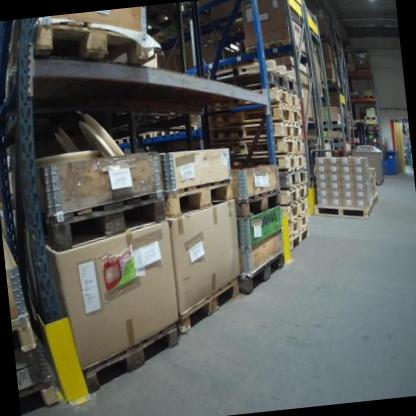pallet: (0, 6, 155, 83), (39, 186, 172, 255), (79, 316, 187, 392), (175, 268, 247, 335), (164, 176, 239, 223), (236, 249, 290, 297), (209, 105, 302, 130), (16, 368, 63, 416), (210, 123, 306, 145), (214, 93, 299, 115), (313, 195, 375, 224), (238, 67, 296, 98), (233, 186, 282, 220), (232, 137, 305, 159), (228, 153, 304, 174), (10, 309, 38, 359), (170, 116, 201, 138), (278, 167, 309, 188), (287, 226, 312, 250), (279, 184, 307, 204), (285, 213, 310, 234), (138, 124, 167, 142), (283, 198, 308, 218), (370, 187, 380, 206), (363, 114, 377, 121), (362, 93, 375, 99)
stillage: (179, 30, 226, 80), (350, 145, 389, 188)
